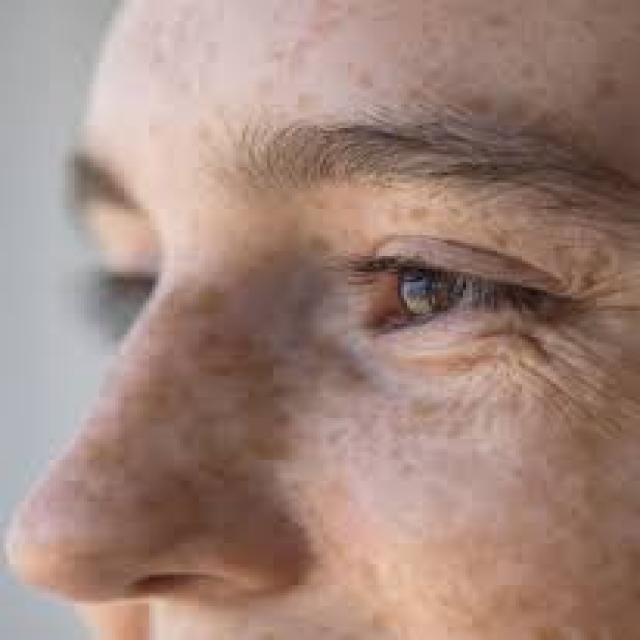pigmentation: (457, 328, 613, 424)
